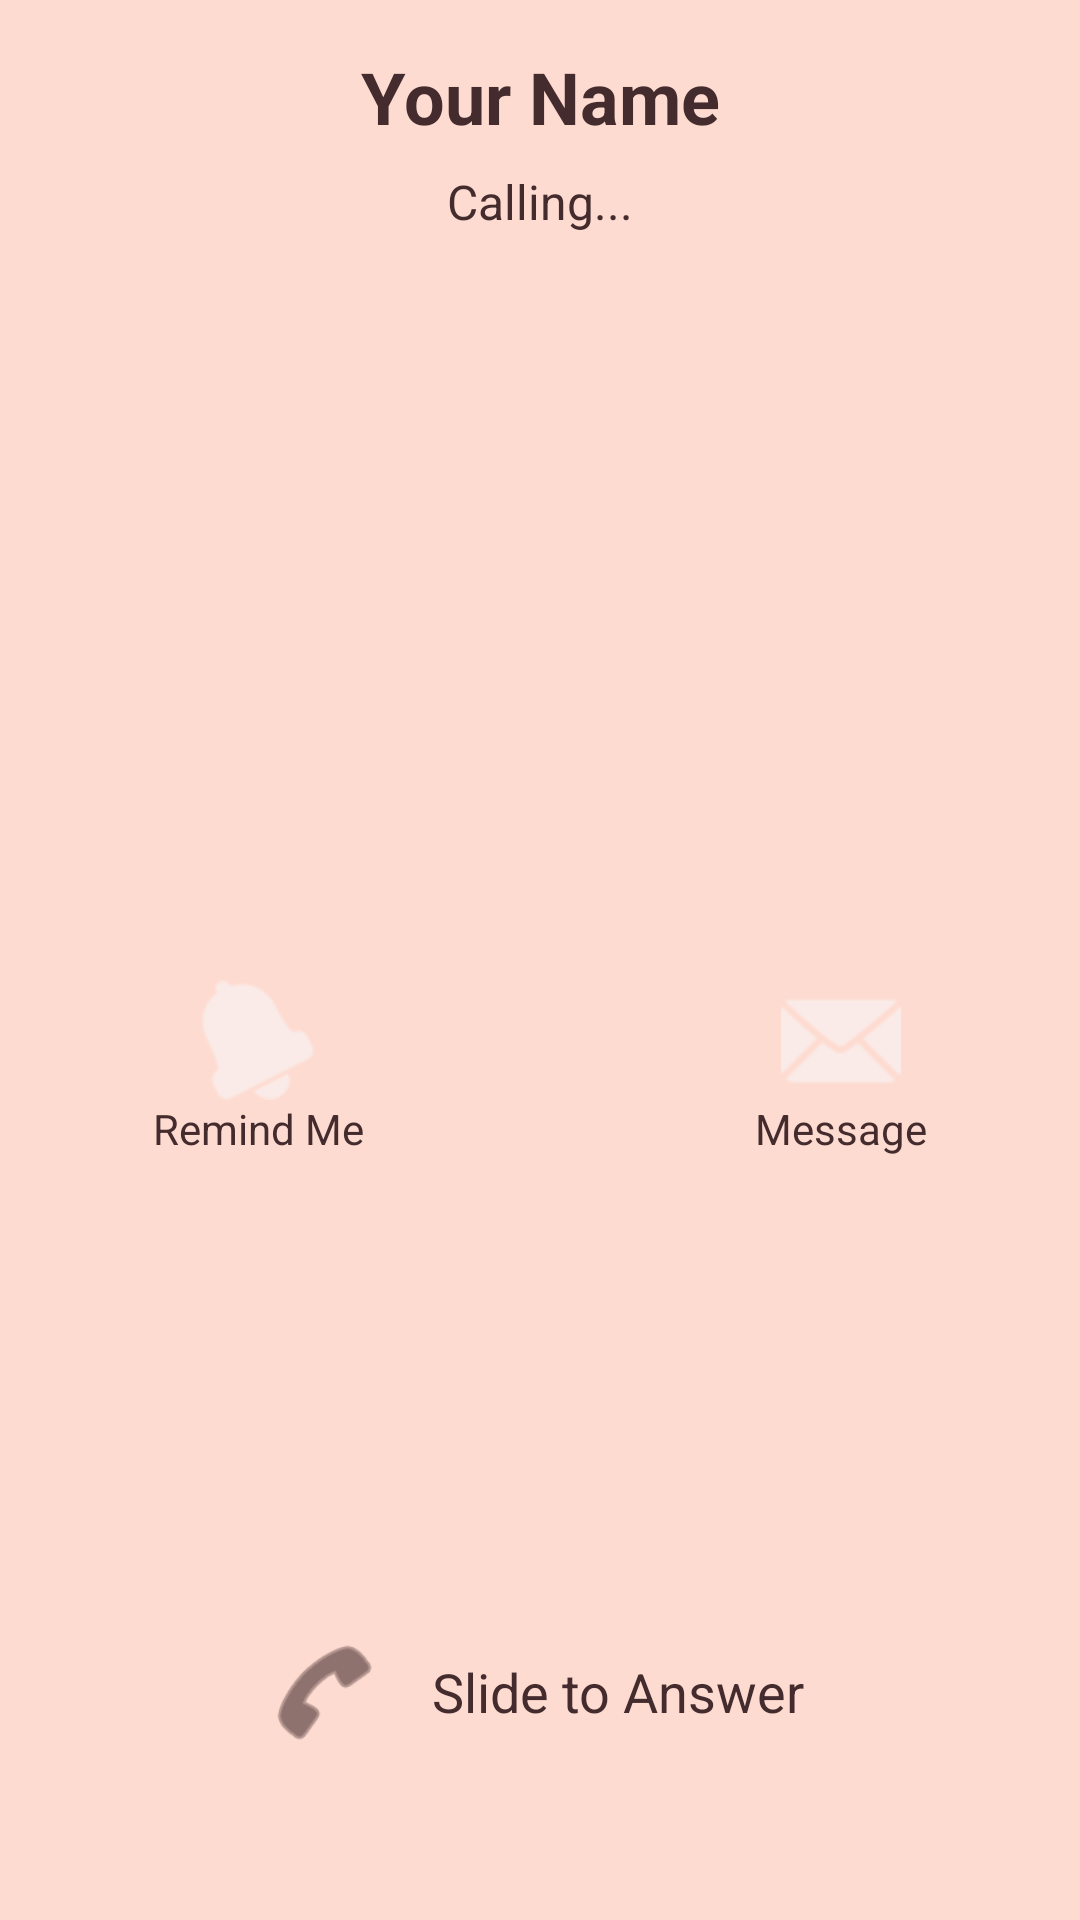

Where to tap for icons on this 1080 x 1920 app screen, as (x,y):
call: (324,1692)
